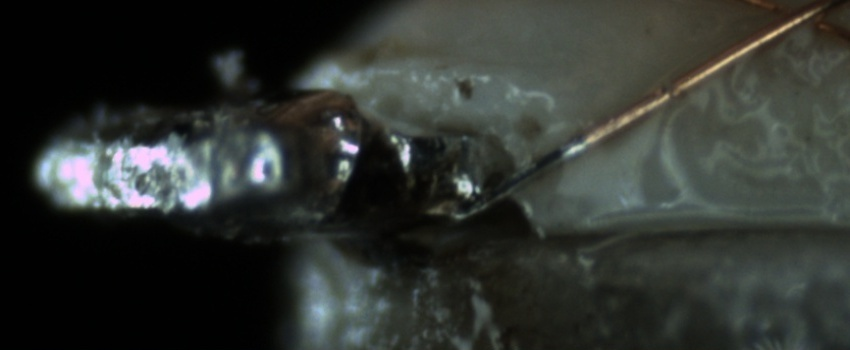CL: (743, 0, 850, 43)
TS: (463, 130, 595, 226)
